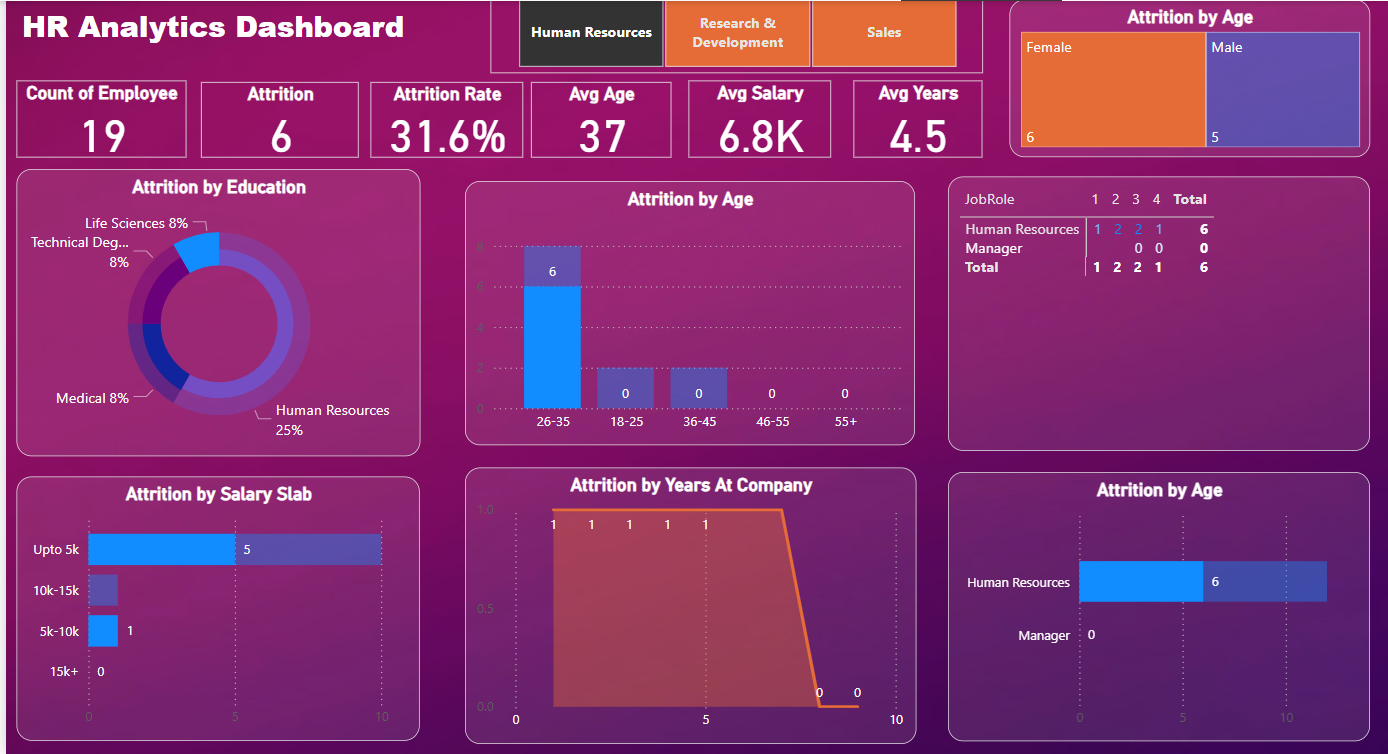

The page's visual inventory and layout, read from the dashboard file:
{"tool":"powerbi","page":{"name":"Page 1","canvas":[1280,720],"ordinal":0},"visuals":[{"type":"card","title":"Count of Employee","fields":{"Values":["CountNonNull(HR_Analytics.EmpID)"]},"box":[9.5,95.4,157.4,71.5],"z":0},{"type":"card","title":"Attrition","fields":{"Values":["Sum(HR_Analytics.Attritioncount)"]},"box":[181.2,97,146.2,69.9],"z":1000},{"type":"card","title":"Attrition Rate","fields":{"Values":["HR_Analytics.AttritionRate"]},"box":[337,97,141.5,69.9],"z":2000},{"type":"card","title":"Avg Age","fields":{"Values":["Avg(HR_Analytics.Age)"]},"box":[486.4,97,130.3,69.9],"z":3000},{"type":"card","title":"Avg Salary","fields":{"Values":["Avg(HR_Analytics.MonthlyIncome)"]},"box":[632.6,95.4,131.9,71.5],"z":4000},{"type":"card","title":"Avg Years","fields":{"Values":["Avg(HR_Analytics.YearsAtCompany)"]},"box":[785.2,95.4,119.2,71.5],"z":5000},{"type":"donutChart","title":"Attrition by Education","fields":{"Category":["HR_Analytics.EducationField"],"Y":["Sum(HR_Analytics.Attritioncount)"]},"box":[9.1,178.4,373.9,265.9],"z":6000},{"type":"columnChart","title":"Attrition by Age","fields":{"Category":["HR_Analytics.AgeGroup"],"Y":["Sum(HR_Analytics.Attritioncount)"]},"box":[424.4,189.1,416.4,244.8],"z":7000},{"type":"pivotTable","fields":{"Rows":["HR_Analytics.JobRole"],"Columns":["HR_Analytics.JobSatisfaction"],"Values":["Sum(HR_Analytics.Attritioncount)"]},"box":[872.6,184.4,391,254.3],"z":8000},{"type":"barChart","title":"Attrition by Salary Slab","fields":{"Category":["HR_Analytics.SalarySlab"],"Y":["Sum(HR_Analytics.Attritioncount)"]},"box":[9.5,462.5,373.5,244.8],"z":9000},{"type":"barChart","title":"Attrition by Age","fields":{"Category":["HR_Analytics.JobRole"],"Y":["Sum(HR_Analytics.Attritioncount)"]},"box":[872.6,457.7,391,249.5],"z":10000},{"type":"areaChart","title":"Attrition by Years At Company","fields":{"Category":["HR_Analytics.YearsAtCompany"],"Y":["Sum(HR_Analytics.Attritioncount)"]},"box":[424.4,454.6,418,255.9],"z":11000},{"type":"treemap","title":"Attrition by Age","fields":{"Group":["HR_Analytics.Gender"],"Values":["Sum(HR_Analytics.Attritioncount)"]},"box":[929.8,20.7,333.8,146.2],"z":12000},{"type":"slicer","fields":{"Values":["HR_Analytics.Department"]},"box":[448.2,9.5,456.2,79.5],"z":13000},{"type":"textbox","box":[9.5,20.7,387.8,52.5],"z":14000}]}

Visuals, with their boxes in screenshot pixels (x1, y1, x2, y2):
"Count of Employee" card: bbox(3, 106, 165, 180)
"Attrition" card: bbox(180, 108, 332, 180)
"Attrition Rate" card: bbox(341, 108, 488, 180)
"Avg Age" card: bbox(496, 108, 631, 180)
"Avg Salary" card: bbox(647, 106, 784, 180)
"Avg Years" card: bbox(805, 106, 929, 180)
"Attrition by Education" donutChart: bbox(2, 192, 389, 467)
"Attrition by Age" columnChart: bbox(432, 203, 863, 456)
pivotTable - HR_Analytics.JobRole x HR_Analytics.JobSatisfaction: bbox(896, 198, 1300, 461)
"Attrition by Salary Slab" barChart: bbox(3, 486, 389, 739)
"Attrition by Age" barChart: bbox(896, 481, 1300, 739)
"Attrition by Years At Company" areaChart: bbox(432, 478, 864, 742)
"Attrition by Age" treemap: bbox(955, 29, 1300, 180)
slicer - HR_Analytics.Department: bbox(457, 17, 929, 99)
textbox: bbox(3, 29, 404, 83)
